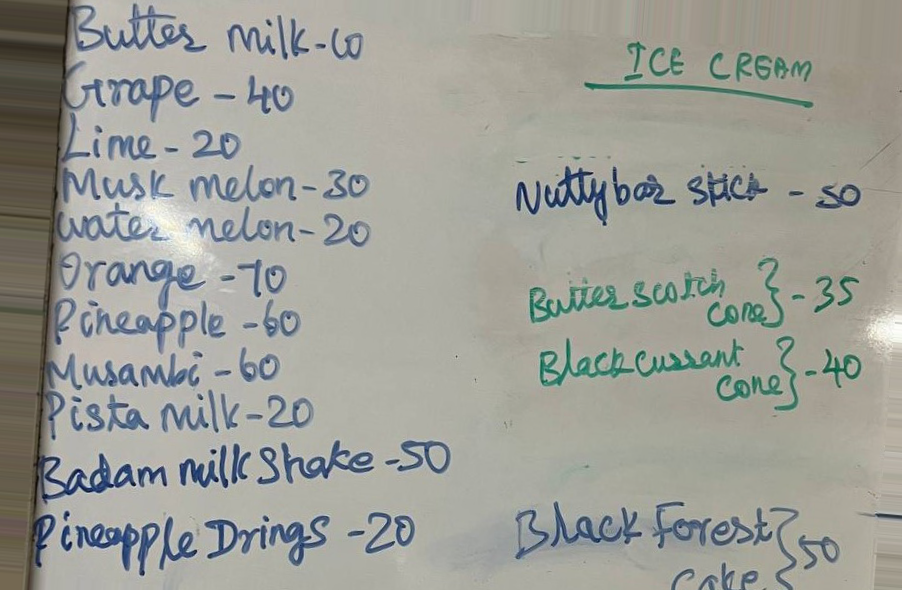badam milkshake - 50: (38, 441, 452, 506)
black current cone - 40: (538, 333, 864, 414)
black forest cake - 50: (515, 499, 844, 590)
butter milk - 10: (68, 1, 373, 62)
butterscotch cone - 35: (528, 257, 863, 328)
grape - 40: (61, 59, 308, 117)
lime - 20: (61, 111, 245, 163)
musambi - 60: (43, 349, 283, 390)
musk melon - 30: (58, 162, 379, 205)
nutty bar - 30: (514, 165, 865, 225)
orange - 70: (52, 248, 293, 301)
pineapple - 60: (50, 296, 316, 351)
pineapple drink - 20: (30, 507, 421, 571)
pista milk - 20: (40, 389, 317, 436)
water melon - 20: (54, 202, 376, 253)
